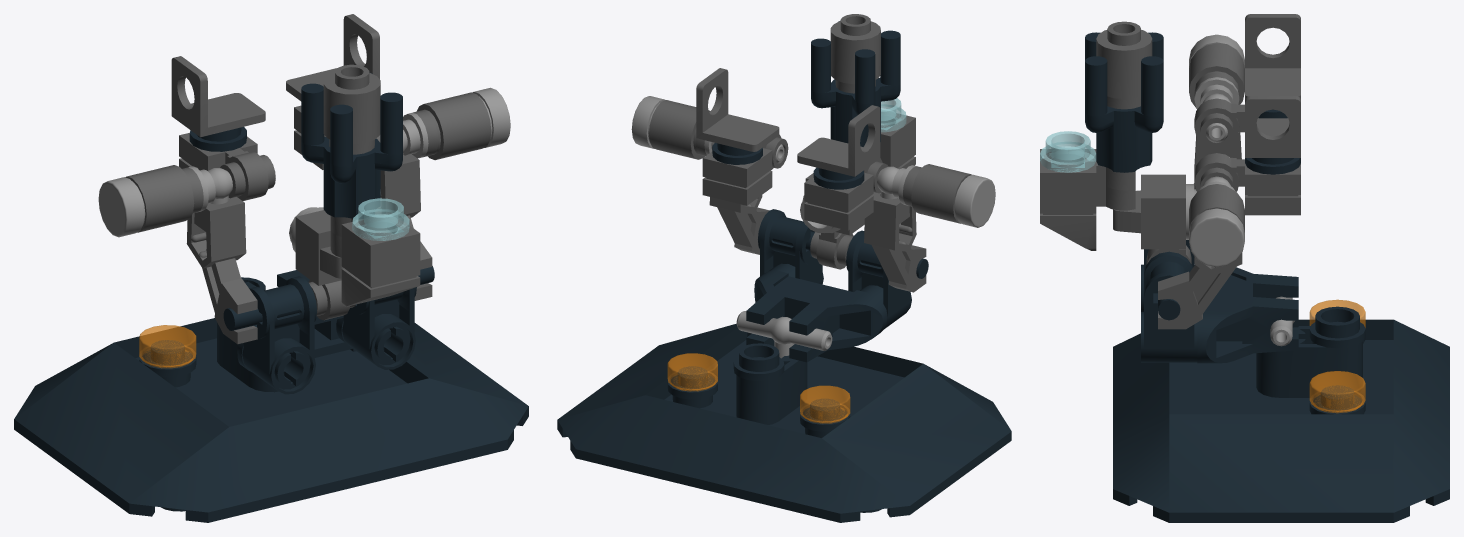
Rendered from mvf-stand.dae.
3 renders of one model, left to right at view 1: azimuth 30°, elevation 25°; view 2: azimuth 150°, elevation 25°; view 3: azimuth 270°, elevation 25°, orthographic. The views are drawn at different scales.
Bounding box in the file's own units: 160 × 146 × 157.
